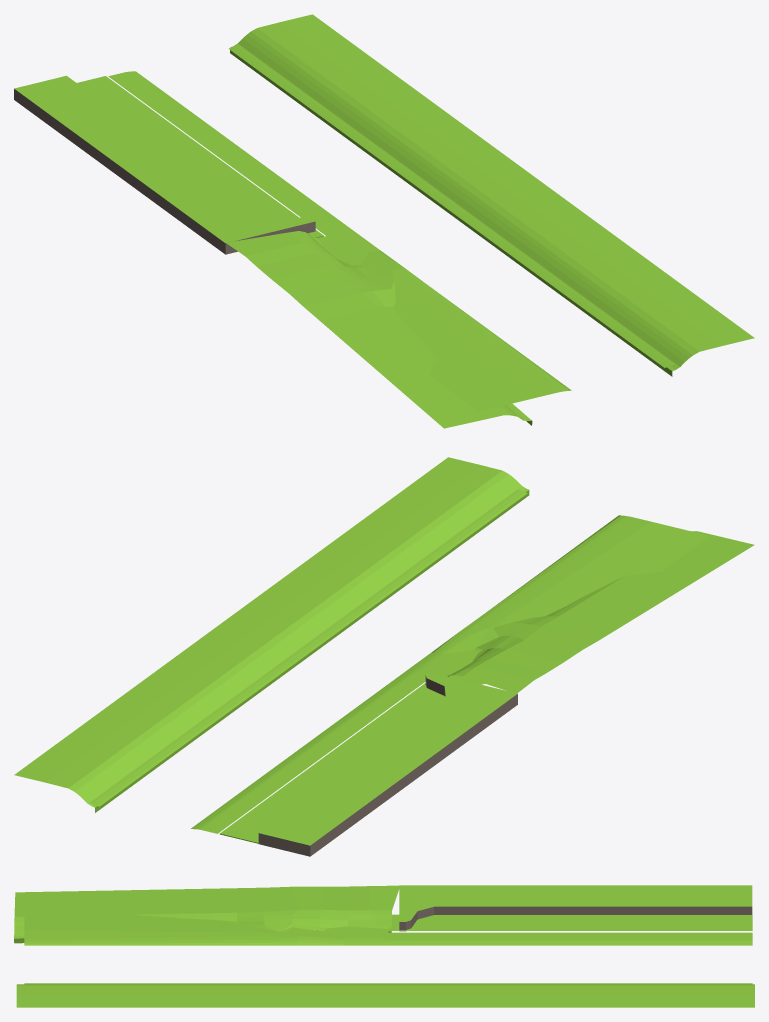
File: offroad.glb
3 renders of one model, top to bottom at view 1: azimuth 30°, elevation 25°; view 2: azimuth 150°, elevation 25°; view 3: azimuth 270°, elevation 25°, orthographic. The views are drawn at different scales.
Visible parts, largest first — view 1: Wall; view 2: Wall; view 3: Wall.
Boxes of the visible parts, left/top/right/bottom form: Wall: left=14, top=14, right=754, bottom=428; Wall: left=14, top=457, right=754, bottom=856; Wall: left=14, top=885, right=754, bottom=1007.
Bounding box in the file's own units: 346 × 34.53 × 855.
